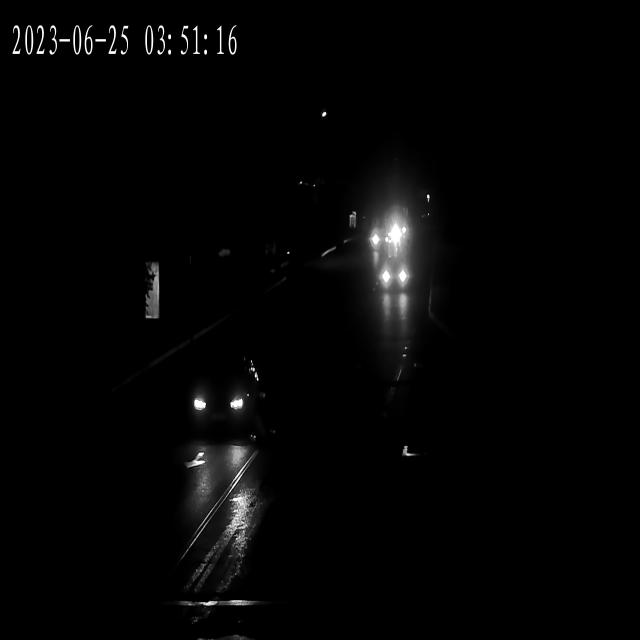Car: (187, 360, 262, 436), (376, 262, 412, 296), (368, 226, 399, 252), (382, 213, 406, 235), (376, 232, 401, 252), (384, 219, 406, 238)
